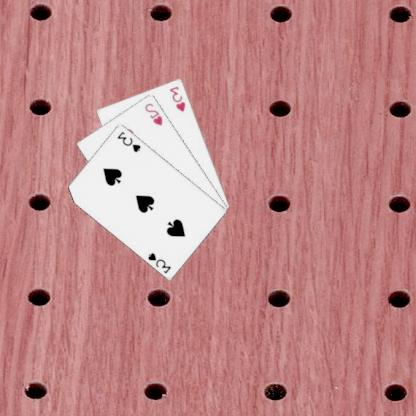2H: (144, 100, 166, 126)
3H: (169, 83, 188, 113)
3S: (116, 128, 144, 154), (147, 249, 174, 274)
